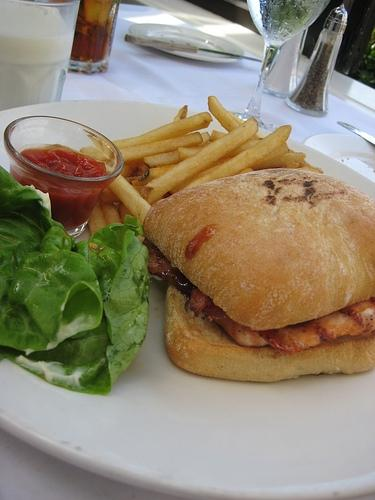lettuce: (0, 167, 151, 396)
